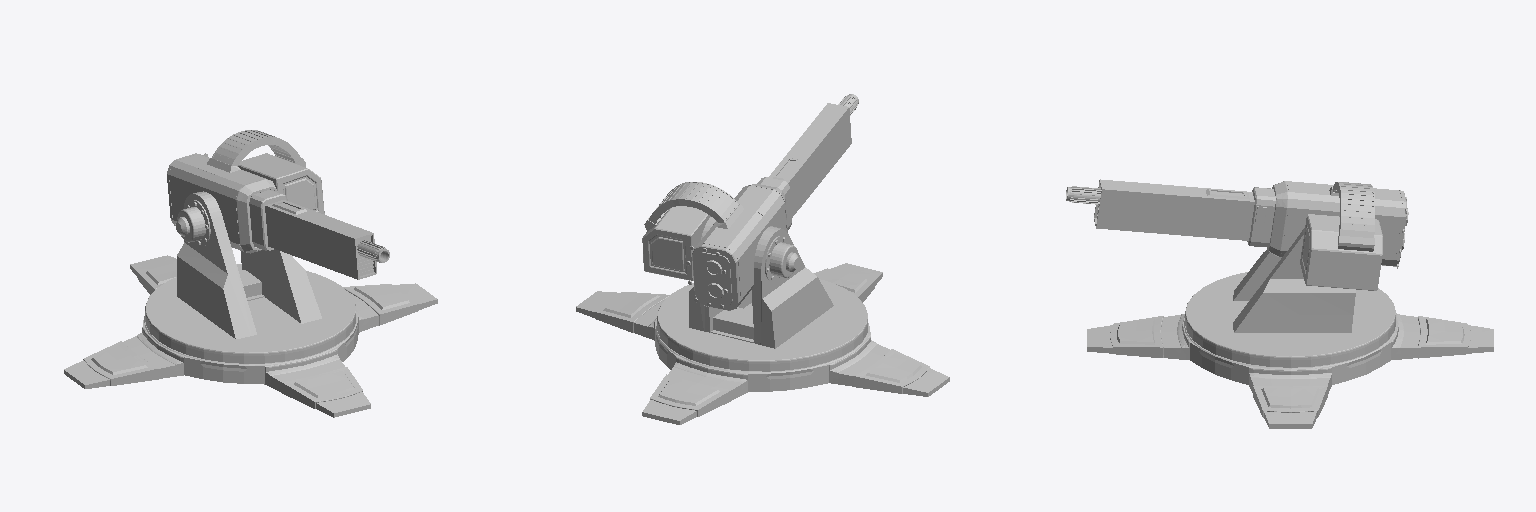
File: turret.obj
The picture shows the model from 3 angles: view 1: azimuth 30°, elevation 25°; view 2: azimuth 150°, elevation 25°; view 3: azimuth 270°, elevation 25°; orthographic projection.
Visible parts, largest first — view 1: Base, Gun, Motor; view 2: Base, Gun, Motor; view 3: Base, Gun.
Part boxes in pixels (x1,y1,x2,y2): Base: (64,191,437,417); Gun: (167,130,389,279); Motor: (176,200,210,245); Base: (576,217,949,424); Gun: (642,94,858,310); Motor: (765,236,799,281); Base: (1087,228,1493,428); Gun: (1066,179,1408,290).
Bounding box in the file's own units: 5.17 × 2.43 × 5.44.